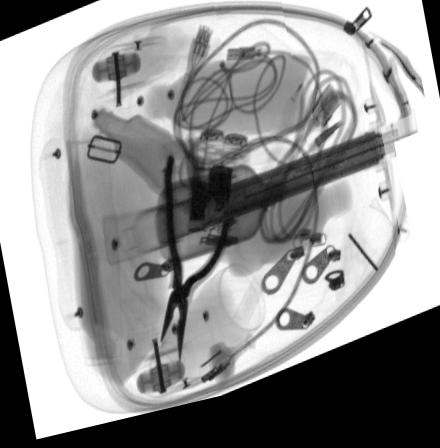Pliers: (159, 161, 233, 370)
